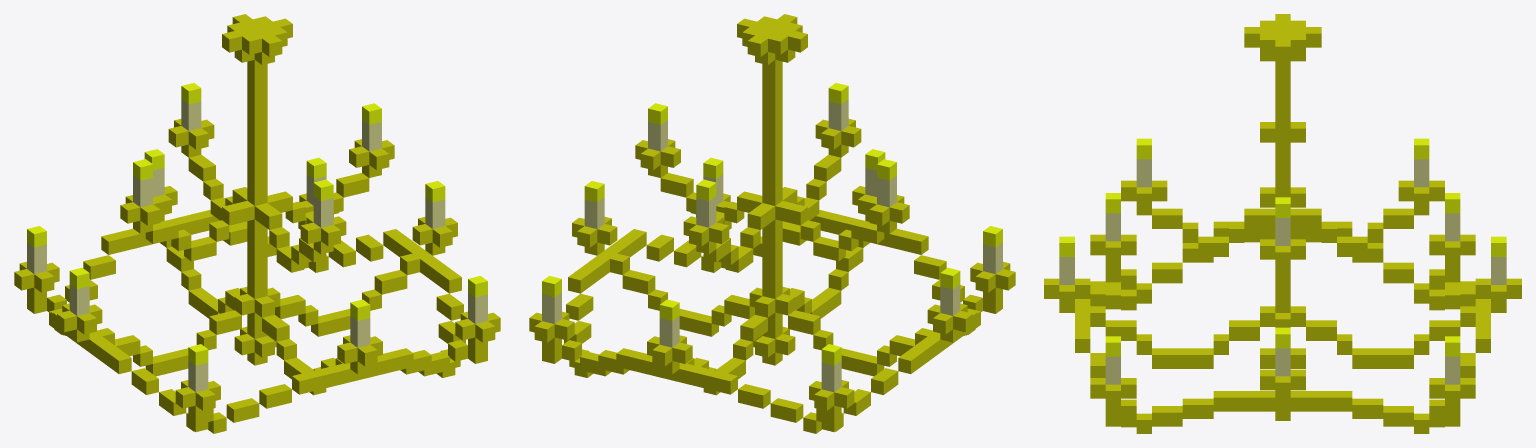
File: chandelierSmall.obj
The picture shows the model from 3 angles, left to right: view 1: azimuth 30°, elevation 25°; view 2: azimuth 150°, elevation 25°; view 3: azimuth 270°, elevation 25°; orthographic projection. The views are drawn at different scales.
Visible parts, largest first — view 1: model_0; view 2: model_0; view 3: model_0.
Boxes of the visible parts, left/top/right/bottom form: model_0: left=14, top=14, right=500, bottom=433; model_0: left=529, top=14, right=1015, bottom=433; model_0: left=1044, top=14, right=1521, bottom=433.
Size of the model in its own units: 1.5 by 1.21 by 1.5.
